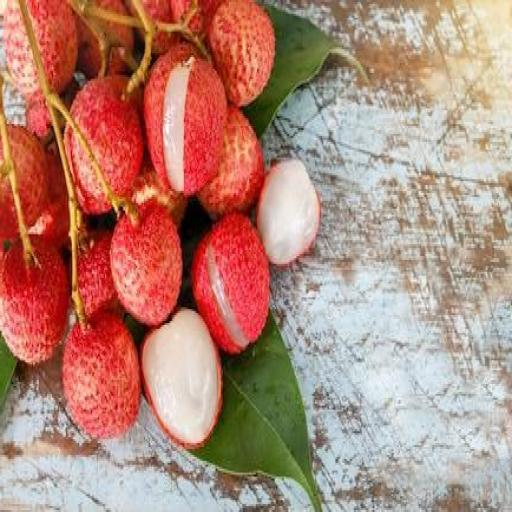lychee: (143, 44, 225, 196), (141, 310, 220, 448), (192, 213, 267, 354), (62, 314, 140, 439), (109, 203, 180, 326), (70, 77, 142, 196), (1, 237, 68, 364), (206, 0, 273, 106), (198, 107, 263, 216), (257, 160, 319, 265), (25, 0, 76, 92), (7, 127, 47, 226), (29, 148, 68, 246), (130, 162, 186, 226), (77, 233, 115, 317), (104, 22, 133, 74), (188, 0, 220, 33), (24, 97, 49, 137), (140, 0, 172, 23)
